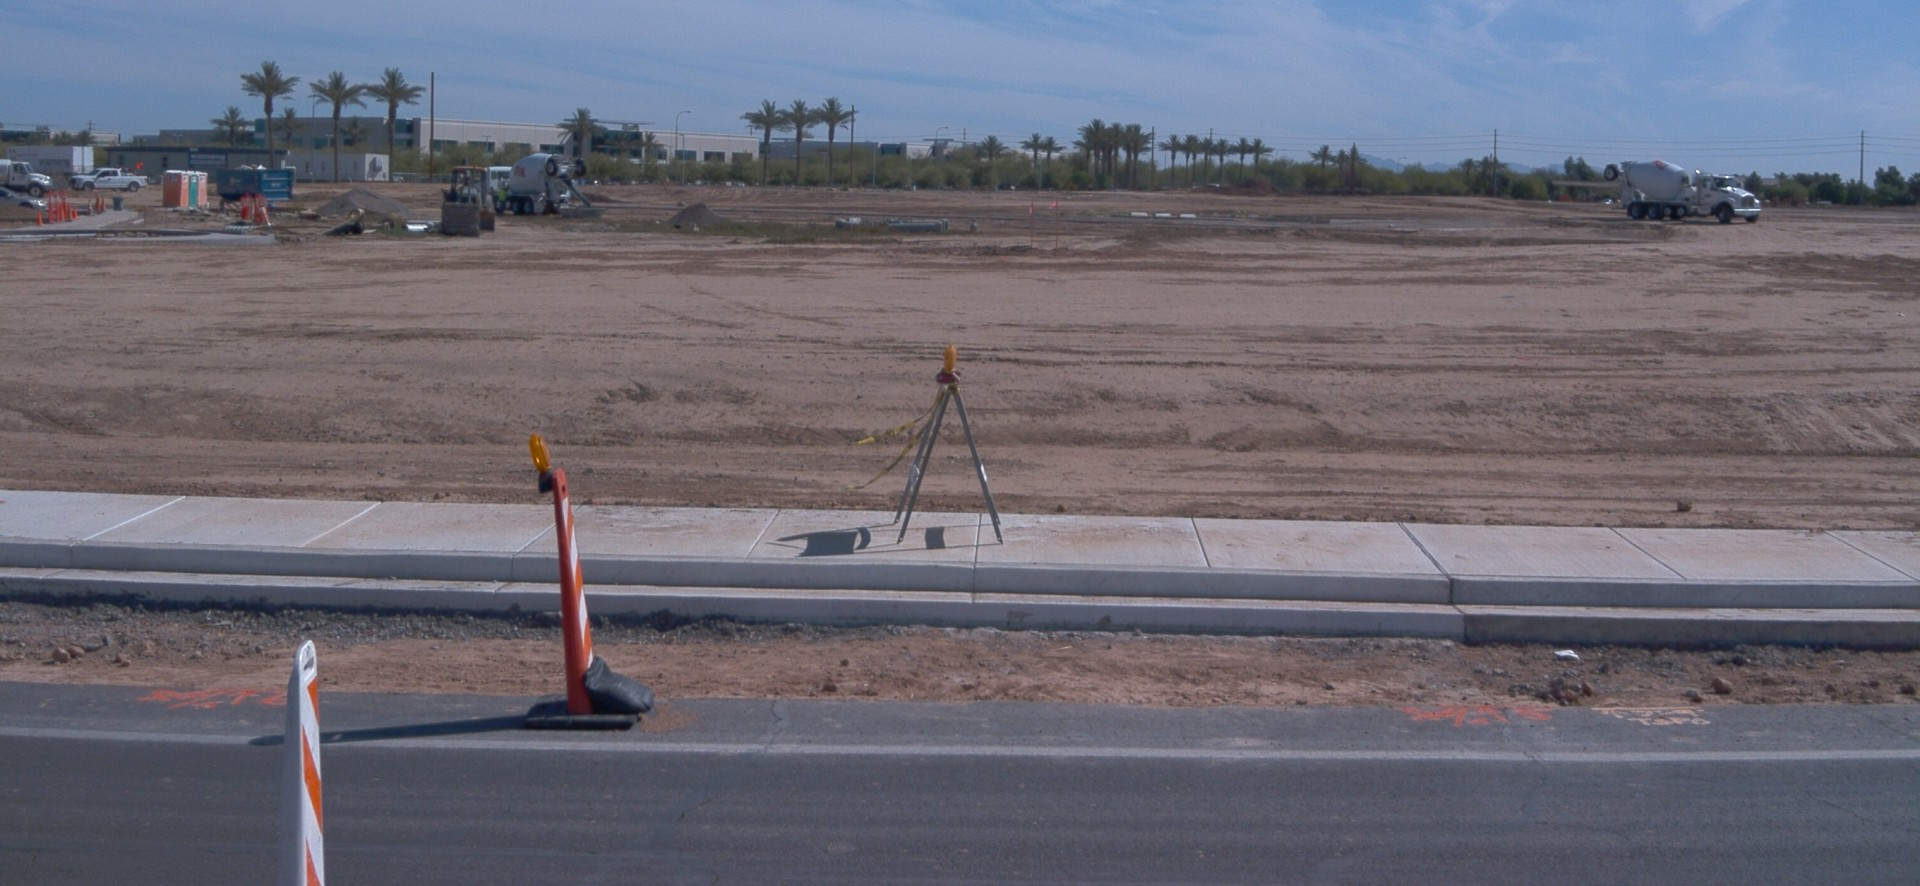TYPE_PEDESTRIAN: (494, 185, 507, 217)
TYPE_VEHICLE: (1600, 153, 1765, 228), (482, 154, 594, 219), (442, 164, 498, 230), (11, 143, 97, 184), (69, 166, 151, 195), (0, 159, 50, 199), (0, 186, 46, 208), (1209, 184, 1223, 189)
